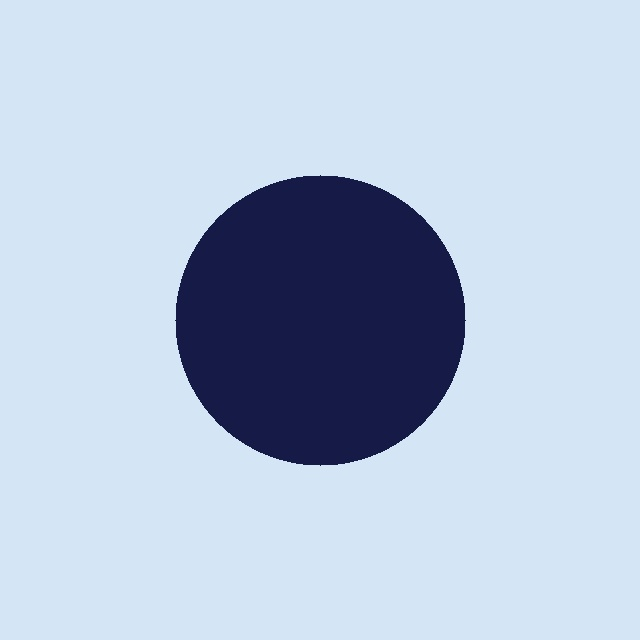circle: (174, 174, 466, 466)
